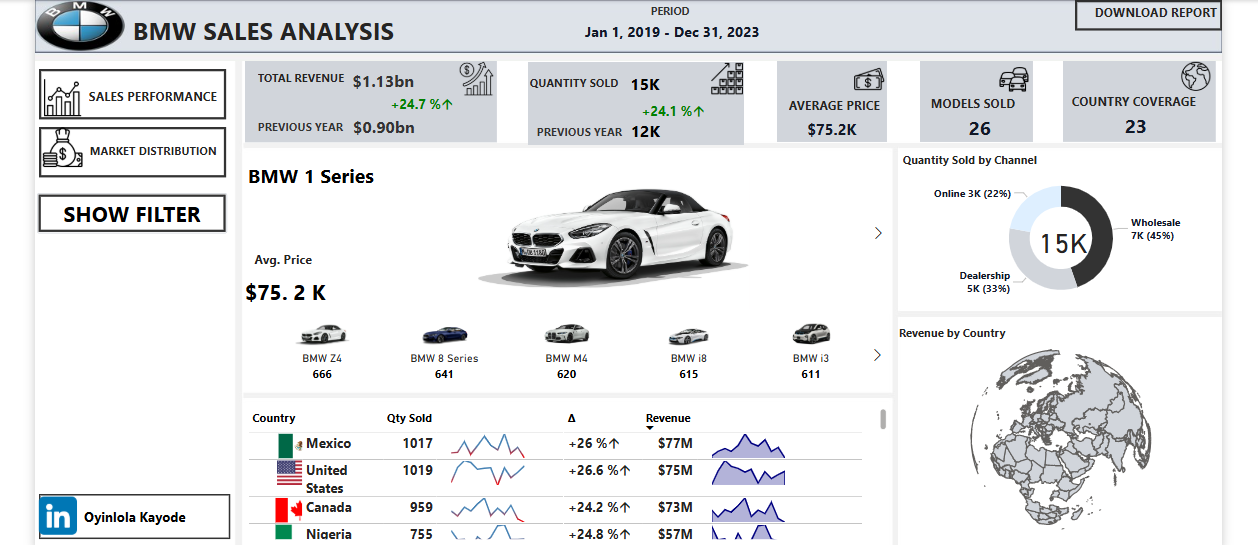

The dashboard page shown, as its layout file describes it:
{"tool":"powerbi","page":{"name":"Page 2","canvas":[1555,720],"ordinal":1},"visuals":[{"type":"tableEx","fields":{"Values":["Country_Data.Countries with Flags URL.Flag","Country_Data.Country","Measures (2).Qty Sold","Measures (2).Qty Sold Sparkline","Measures (2).Qty Sold Variance % Arrow","Measures (2).Revenue","Measures (2).Revenue Sparkline"]},"box":[278.4,529.4,836,177],"z":0},{"type":"advancedSlicerVisual","fields":{"Values":["Model_Data.Model"]},"box":[395.2,199.1,724.1,212],"z":1000},{"type":"advancedSlicerVisual","fields":{"Values":["Model_Data.Model"]},"box":[275.5,411.1,843.9,106.7],"z":2000},{"type":"donutChart","title":" Quantity Sold by Channel","fields":{"Y":["Sum(BMW_Sales_Data.Quantity Sold)"],"Category":["Chanel_Data.Channel"]},"box":[1130.9,199.1,424.1,204.8],"z":3000},{"type":"card","fields":{"Values":["Measures (2).Selected Period"]},"box":[693.8,30.3,281.3,27.4],"z":4000},{"type":"textbox","box":[800.6,0,99.5,41.8],"z":5000},{"type":"image","box":[5.8,96.6,62,62],"z":7000},{"type":"textbox","box":[122.6,11.5,418.3,60.6],"z":8000},{"type":"textbox","box":[64.9,109.6,232.2,53.4],"z":9000},{"type":"actionButton","box":[5.8,165.9,245.2,66.4],"z":10000},{"type":"image","box":[5.8,160.1,62,66.4],"z":11000},{"type":"textbox","box":[1381.9,0,173.1,57.7],"z":12000},{"type":"actionButton","box":[5.8,90.9,245.2,66.4],"z":13000},{"type":"textbox","box":[66.4,181.8,190.4,47.6],"z":14000},{"type":"actionButton","box":[1361.7,0,193.3,40.4],"z":15000},{"type":"actionButton","box":[5.8,646.2,251,59.1],"z":16000},{"type":"image","box":[0,643.7,60.5,61.9],"z":17000},{"type":"shape","box":[278.4,199.1,201.9,59.1],"z":18000},{"type":"shape","box":[275.5,360.6,122.6,43.3],"z":19000},{"type":"shapeMap","fields":{"Category":["Countries with Flags URL.Country"],"Value":["Measures (2).Revenue"]},"box":[1130.9,425.5,424.1,279.8],"z":20000},{"type":"shape","box":[275,79.2,329.8,106.6],"z":21000},{"type":"shape","box":[971.3,79.9,144,106],"z":22000},{"type":"shape","box":[1345.7,79.9,200.3,106],"z":23000},{"type":"shape","box":[1158.5,79.9,147.9,106],"z":24000},{"type":"shape","box":[645.4,81.2,282.8,108.7],"z":25000},{"type":"card","fields":{"Values":["Measures (2).Revenue PY"]},"box":[388.8,144,136.1,45.8],"z":26000},{"type":"textbox","box":[286.7,150.5,158.4,31.4],"z":27000},{"type":"card","fields":{"Values":["Measures (2).Revenue Variance % Arrow"]},"box":[456.9,112.6,99.5,51.1],"z":28000},{"type":"card","fields":{"Values":["Measures (2).Revenue"]},"box":[387.5,85.1,137.5,44.5],"z":29000},{"type":"textbox","box":[286.7,86.4,223.9,32.7],"z":30000},{"type":"card","title":"QUANTITY SOLD","fields":{"Values":["Measures (2).Qty Sold"]},"box":[709.5,91.6,178,39.3],"z":31000},{"type":"card","title":"QUANTITY SOLD","fields":{"Values":["Measures (2).Qty Sold PY"]},"box":[747.5,151.9,103.4,40.6],"z":32000},{"type":"card","title":"QUANTITY SOLD","fields":{"Values":["Measures (2).Qty Sold Variance % Arrow"]},"box":[786.8,123.1,96.9,48.4],"z":33000},{"type":"textbox","box":[651.9,157.1,134.8,35.3],"z":34000},{"type":"textbox","box":[642.8,92.9,140.1,36.7],"z":35000},{"type":"card","fields":{"Values":["CountNonNull(Model_Data.Model)"]},"box":[1192.6,144,89,48.4],"z":36000},{"type":"textbox","box":[1167.7,119.1,147.9,41.9],"z":37000},{"type":"textbox","box":[1352.3,116.5,188.5,51.1],"z":38000},{"type":"card","fields":{"Values":["Measures (2).Avg Price"]},"box":[993.6,150.5,99.5,41.9],"z":39000},{"type":"textbox","box":[981.8,121.7,147.9,31.4],"z":40000},{"type":"image","box":[1247.6,79.9,68.1,48.4],"z":41000},{"type":"image","box":[809,75.9,193.7,53.7],"z":42000},{"type":"image","box":[524.9,75.9,106,53.7],"z":43000},{"type":"image","box":[1493.7,75.9,51.1,48.4],"z":44000},{"type":"image","box":[1061.7,75.9,61.5,55],"z":45000},{"type":"card","fields":{"Values":["CountNonNull(Country_Data.Country)"]},"box":[1388.9,133.5,104.7,65.5],"z":46000},{"type":"textbox","box":[275.5,305.8,103.9,54.8],"z":47000},{"type":"actionButton","box":[2.9,252,249.1,53.3],"z":48000},{"type":"card","fields":{"Values":["Measures (2).Qty Sold"]},"box":[1304.6,289.4,82.1,53.3],"z":50000}]}

Visuals, with their boxes on the page's 1555x720 design canvas (x1, y1, x2, y2). These are canvas units, not pixel positions in the 1258x545 screenshot, which may show the page scaled, cropped or inside an application window:
tableEx - Country_Data.Countries with Flags URL.Flag x Country_Data.Country: [x1=278, y1=529, x2=1114, y2=706]
advancedSlicerVisual - Model_Data.Model: [x1=395, y1=199, x2=1119, y2=411]
advancedSlicerVisual - Model_Data.Model: [x1=276, y1=411, x2=1119, y2=518]
" Quantity Sold by Channel" donutChart: [x1=1131, y1=199, x2=1555, y2=404]
card - Measures (2).Selected Period: [x1=694, y1=30, x2=975, y2=58]
textbox: [x1=801, y1=0, x2=900, y2=42]
image: [x1=6, y1=97, x2=68, y2=159]
textbox: [x1=123, y1=12, x2=541, y2=72]
textbox: [x1=65, y1=110, x2=297, y2=163]
actionButton: [x1=6, y1=166, x2=251, y2=232]
image: [x1=6, y1=160, x2=68, y2=226]
textbox: [x1=1382, y1=0, x2=1555, y2=58]
actionButton: [x1=6, y1=91, x2=251, y2=157]
textbox: [x1=66, y1=182, x2=257, y2=229]
actionButton: [x1=1362, y1=0, x2=1555, y2=40]
actionButton: [x1=6, y1=646, x2=257, y2=705]
image: [x1=0, y1=644, x2=60, y2=706]
shape: [x1=278, y1=199, x2=480, y2=258]
shape: [x1=276, y1=361, x2=398, y2=404]
shapeMap - Countries with Flags URL.Country x Measures (2).Revenue: [x1=1131, y1=426, x2=1555, y2=705]
shape: [x1=275, y1=79, x2=605, y2=186]
shape: [x1=971, y1=80, x2=1115, y2=186]
shape: [x1=1346, y1=80, x2=1546, y2=186]
shape: [x1=1158, y1=80, x2=1306, y2=186]
shape: [x1=645, y1=81, x2=928, y2=190]
card - Measures (2).Revenue PY: [x1=389, y1=144, x2=525, y2=190]
textbox: [x1=287, y1=150, x2=445, y2=182]
card - Measures (2).Revenue Variance % Arrow: [x1=457, y1=113, x2=556, y2=164]
card - Measures (2).Revenue: [x1=388, y1=85, x2=525, y2=130]
textbox: [x1=287, y1=86, x2=511, y2=119]
"QUANTITY SOLD" card: [x1=710, y1=92, x2=888, y2=131]
"QUANTITY SOLD" card: [x1=748, y1=152, x2=851, y2=192]
"QUANTITY SOLD" card: [x1=787, y1=123, x2=884, y2=172]
textbox: [x1=652, y1=157, x2=787, y2=192]
textbox: [x1=643, y1=93, x2=783, y2=130]
card - CountNonNull(Model_Data.Model): [x1=1193, y1=144, x2=1282, y2=192]
textbox: [x1=1168, y1=119, x2=1316, y2=161]
textbox: [x1=1352, y1=116, x2=1541, y2=168]
card - Measures (2).Avg Price: [x1=994, y1=150, x2=1093, y2=192]
textbox: [x1=982, y1=122, x2=1130, y2=153]
image: [x1=1248, y1=80, x2=1316, y2=128]
image: [x1=809, y1=76, x2=1003, y2=130]
image: [x1=525, y1=76, x2=631, y2=130]
image: [x1=1494, y1=76, x2=1545, y2=124]
image: [x1=1062, y1=76, x2=1123, y2=131]
card - CountNonNull(Country_Data.Country): [x1=1389, y1=134, x2=1494, y2=199]
textbox: [x1=276, y1=306, x2=379, y2=361]
actionButton: [x1=3, y1=252, x2=252, y2=305]
card - Measures (2).Qty Sold: [x1=1305, y1=289, x2=1387, y2=343]
